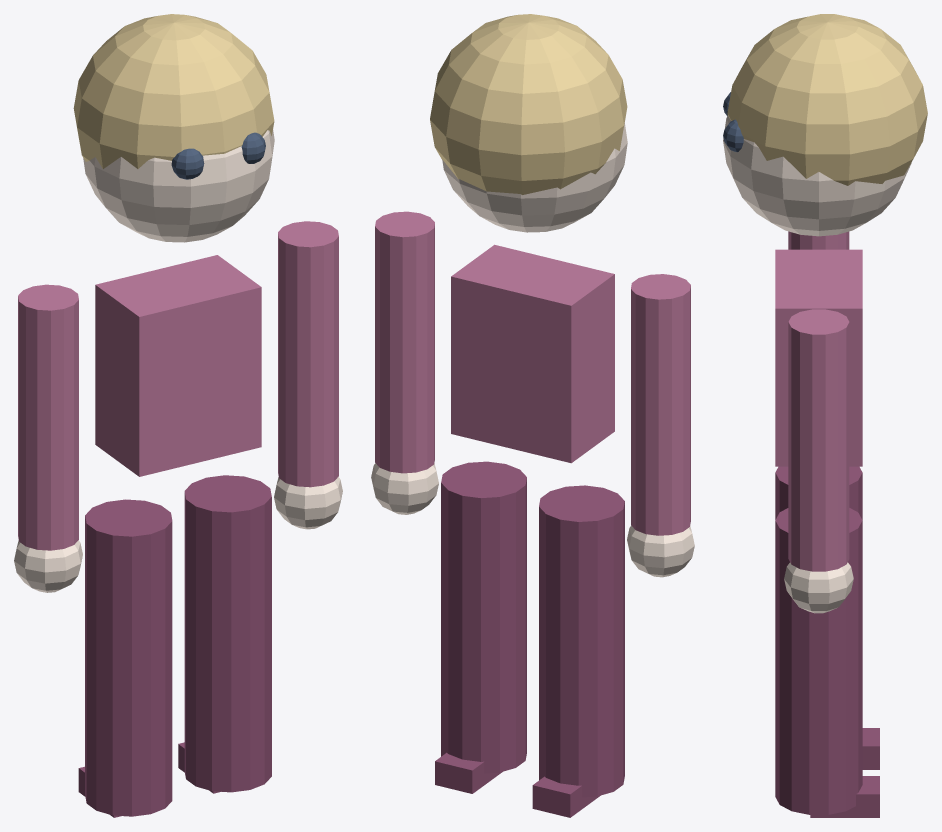
File: AnastasiaPrincess.fbx
3 renders of one model, left to right at view 1: azimuth 30°, elevation 25°; view 2: azimuth 150°, elevation 25°; view 3: azimuth 270°, elevation 25°, orthographic.
Visible parts, largest first — view 1: AnastasiaPrincess; view 2: AnastasiaPrincess; view 3: AnastasiaPrincess.
Part boxes in pixels (<box>): AnastasiaPrincess: <box>14,14,342,817</box>; AnastasiaPrincess: <box>371,14,694,817</box>; AnastasiaPrincess: <box>723,14,927,817</box>.
Size of the model in its own units: 83.22 by 193 by 47.
